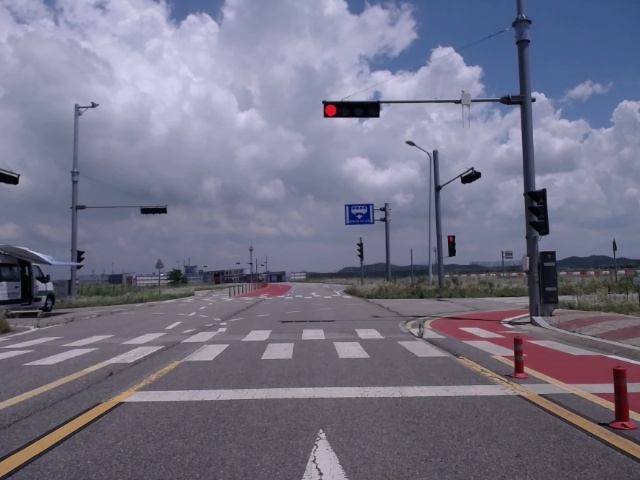red_4: (324, 103, 380, 118)
